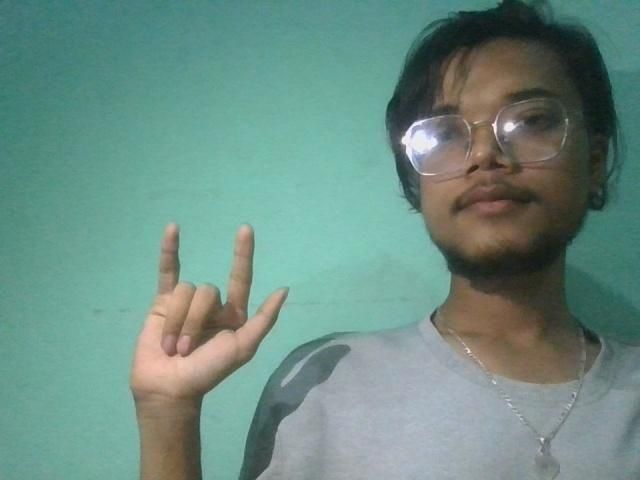I Love You: (103, 211, 307, 401)
